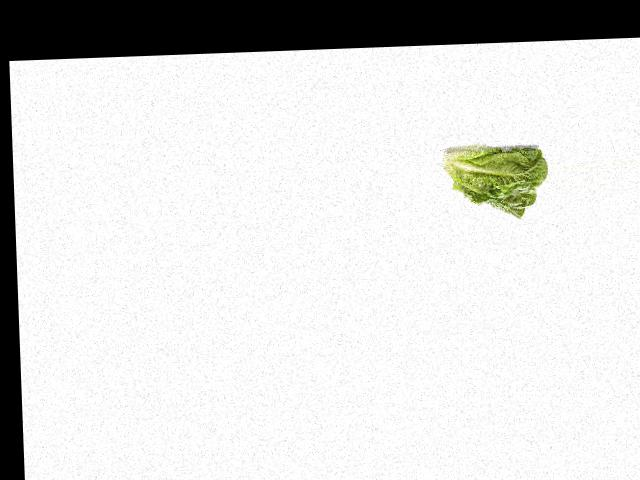lettuce: (436, 129, 549, 221)
